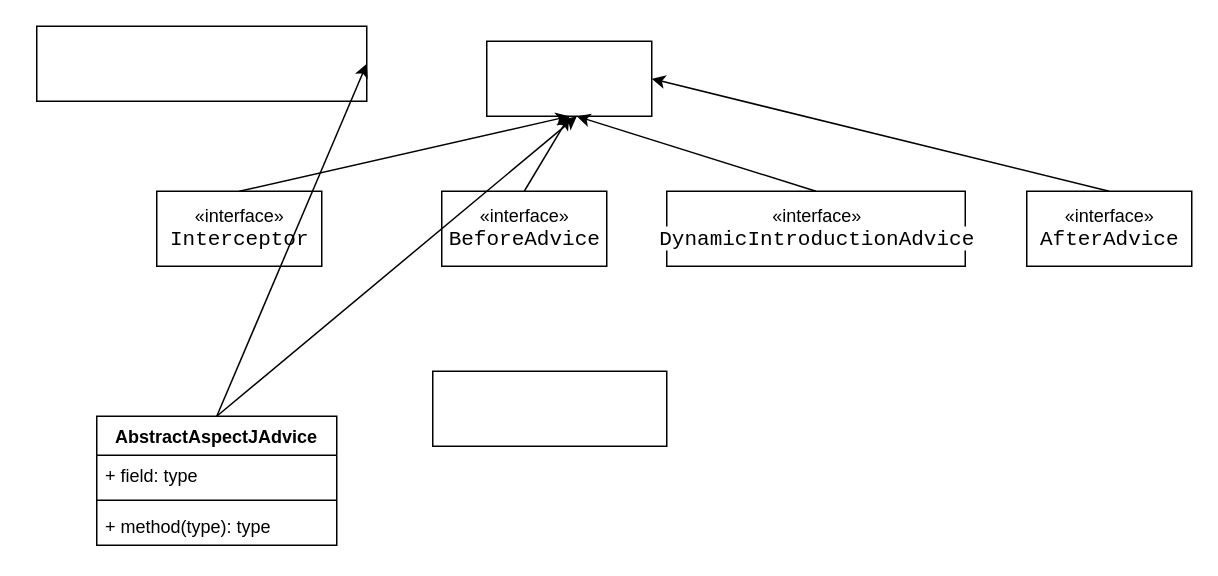
This 1218x576 diagram has some shape labels left out. Here are the shapes that lost their labels. From the top down, the centre of each, then its label:
At point 201,63: "«interface» AspectJPrecedenceInformation".
At point 568,78: "«interface» Advice".
At point 549,408: "«interface» MethodBeforeAdvice".
